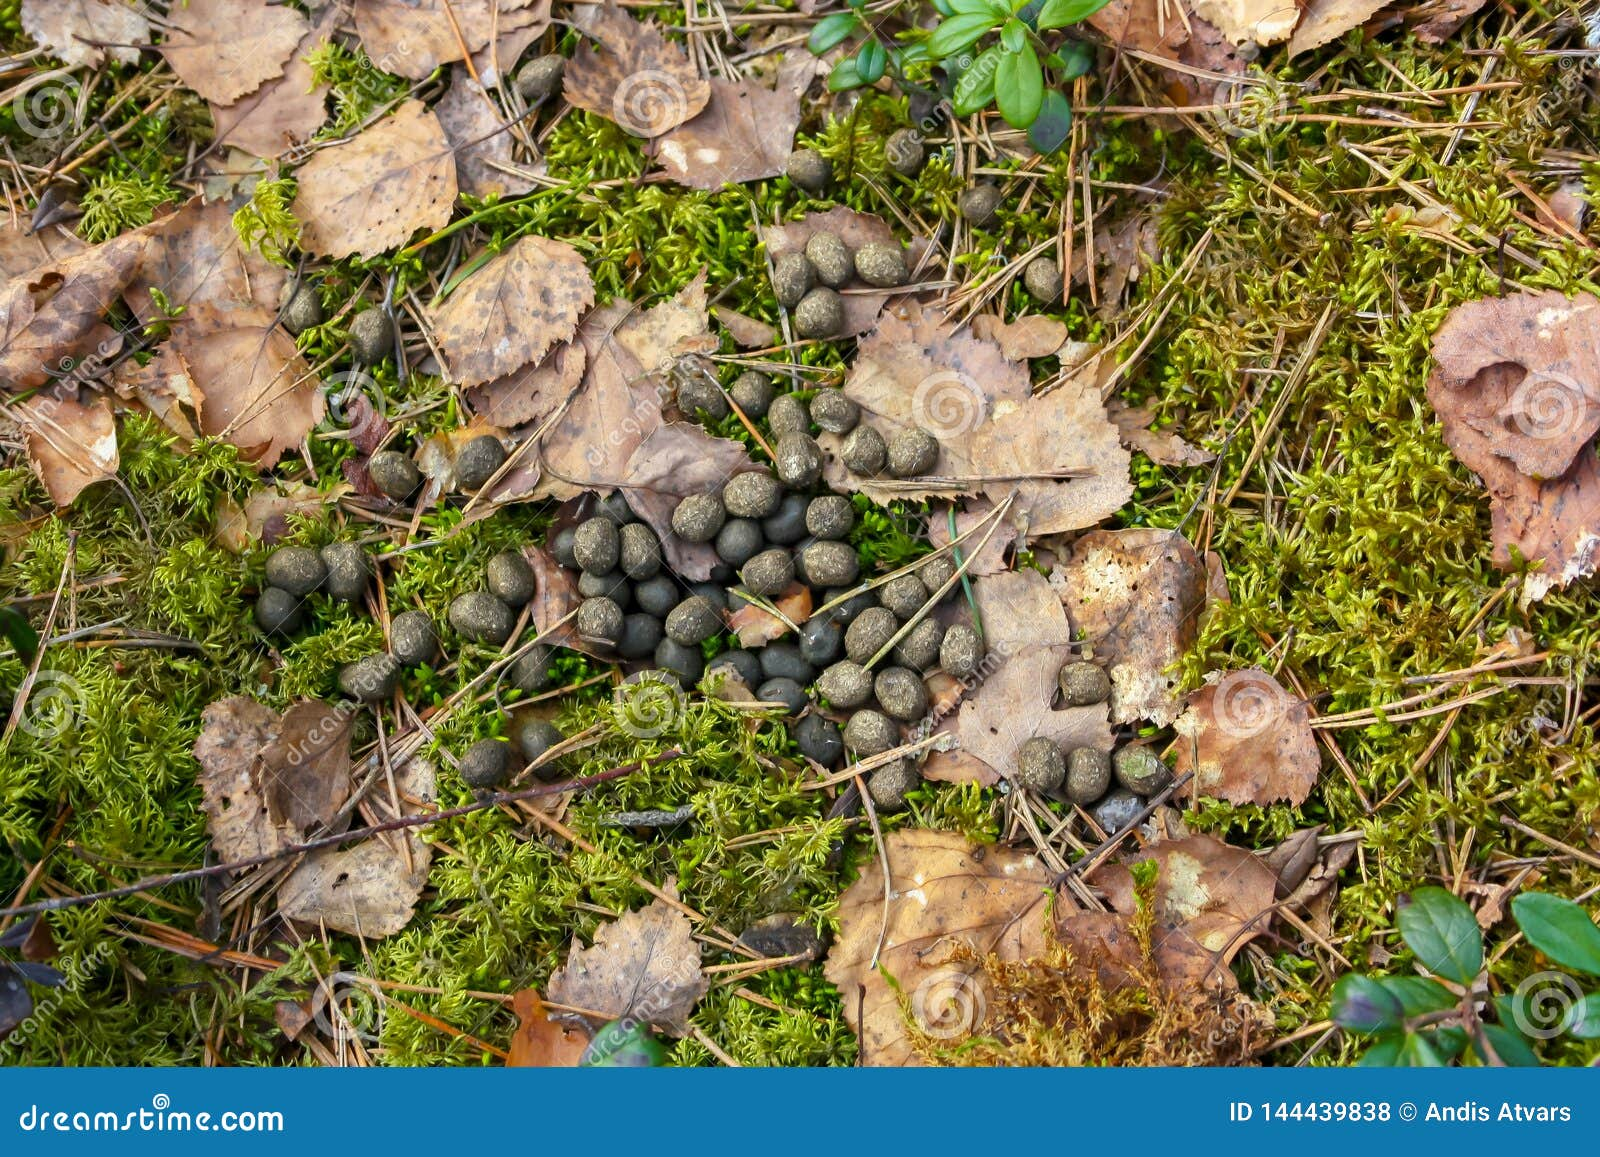Elk: (522, 483, 957, 771)
